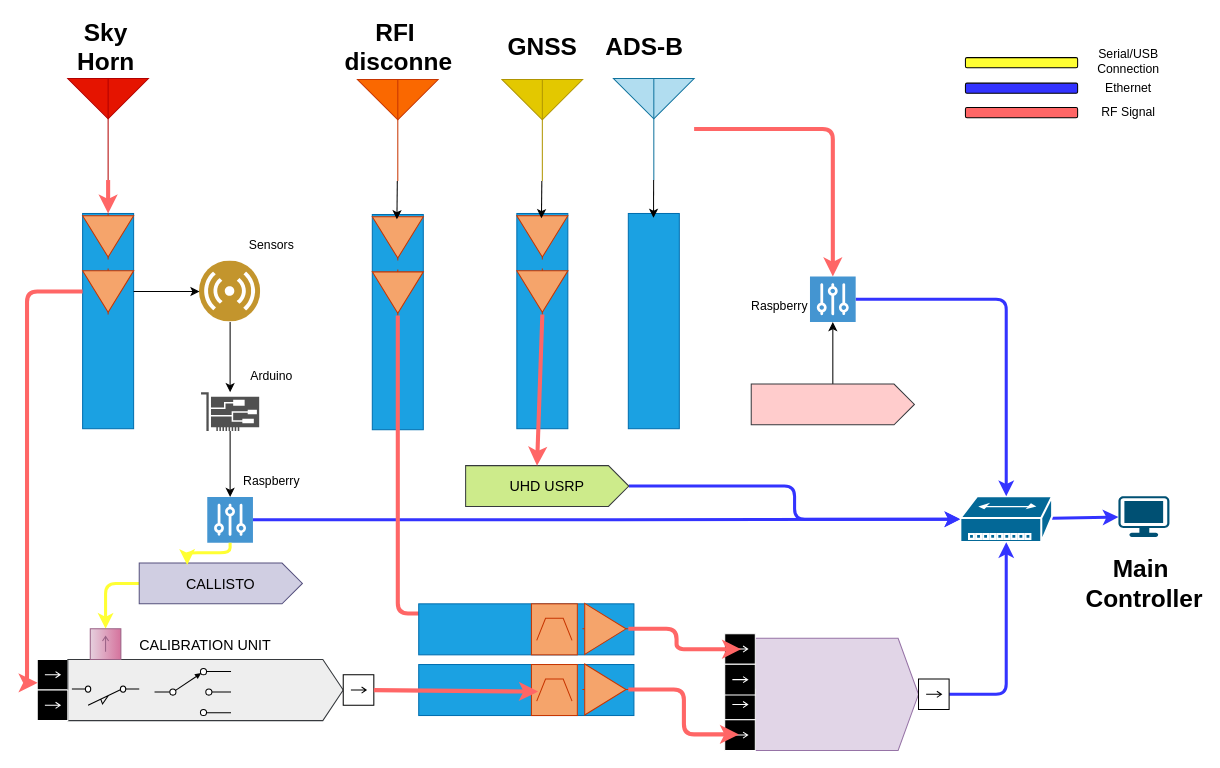
This 1220x768 diagram has some shape labels left out. Each missing label, with the centre of its shape:
"RTL SDR" goes at point (832, 404).
"SKARAB" goes at point (836, 693).
